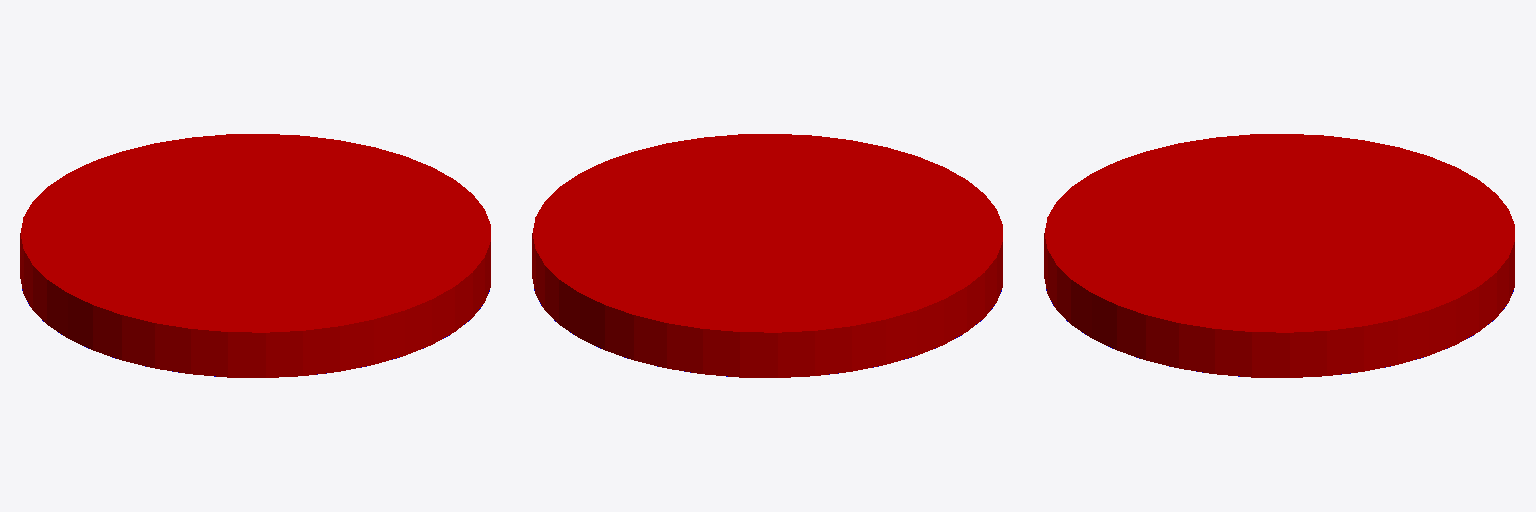
URDF robot description (end_effector_1.SLDASM):
<?xml version="1.0" encoding="utf-8"?>
<!-- This URDF was automatically created by SolidWorks to URDF Exporter! Originally created by [author] ([email redacted]) 
     Commit Version: 1.6.0-4-g7f85cfe  Build Version: 1.6.7995.38578
     For more information, please see http://wiki.ros.org/sw_urdf_exporter -->
<robot
  name="end_effector_1.SLDASM">
  <link
    name="i">
    <inertial>
      <origin
        xyz="5.6766E-35 -7.1251E-18 0.005"
        rpy="0 0 0" />
      <mass
        value="0" />
      <inertia
        ixx="0.00030345"
        ixy="1.6987E-36"
        ixz="-1.2291E-37"
        iyy="0.00030345"
        iyz="3.6451E-21"
        izz="0.00059787" />
    </inertial>
    <visual>
      <origin
        xyz="0 0 0"
        rpy="0 0 0" />
      <geometry>
        <mesh
          filename="package://end_effector_1.SLDASM/meshes/i.STL" />
      </geometry>
      <material
        name="">
        <color
          rgba="0 0 0.93333 1" />
      </material>
    </visual>
    <collision>
      <origin
        xyz="0 0 0"
        rpy="0 0 0" />
      <geometry>
        <mesh
          filename="package://end_effector_1.SLDASM/meshes/i.STL" />
      </geometry>
    </collision>
  </link>
  <link
    name="b">
    <inertial>
      <origin
        xyz="5.6766E-35 -7.1251E-18 0.005"
        rpy="0 0 0" />
      <mass
        value="0.5413" />
      <inertia
        ixx="0.00030345"
        ixy="1.6987E-36"
        ixz="-1.2291E-37"
        iyy="0.00030345"
        iyz="3.6451E-21"
        izz="0.00059787" />
    </inertial>
    <visual>
      <origin
        xyz="0 0 0"
        rpy="0 0 0" />
      <geometry>
        <mesh
          filename="package://end_effector_1.SLDASM/meshes/b.STL" />
      </geometry>
      <material
        name="">
        <color
          rgba="0.79216 0 0 1" />
      </material>
    </visual>
    <collision>
      <origin
        xyz="0 0 0"
        rpy="0 0 0" />
      <geometry>
        <mesh
          filename="package://end_effector_1.SLDASM/meshes/b.STL" />
      </geometry>
    </collision>
  </link>
  <joint
    name="f"
    type="fixed">
    <origin
      xyz="0 0 0"
      rpy="0 0 0" />
    <parent
      link="i" />
    <child
      link="b" />
    <axis
      xyz="0 0 0" />
  </joint>
</robot>

--- Facts derived from the render (not from the file) ---
Views: 3 orthographic renders of the robot side by side, from view 1: azimuth 30°, elevation 25°; view 2: azimuth 150°, elevation 25°; view 3: azimuth 270°, elevation 25°.
Robot: end_effector_1.SLDASM — 2 links, 1 joints (1 fixed); root link i; default pose: every joint at zero.
Links seen in each view (by area): view 1: b; view 2: b; view 3: b.
Link boxes in pixels (x1=…): b: x1=20, y1=134, x2=490, y2=377; b: x1=532, y1=134, x2=1002, y2=377; b: x1=1044, y1=134, x2=1514, y2=377.
Bounding box of the posed robot: 0.094 × 0.094 × 0.01 m (x, y, z).
Meshes: 2 distinct files referenced, 2 mesh visuals loaded (2 binary STL).